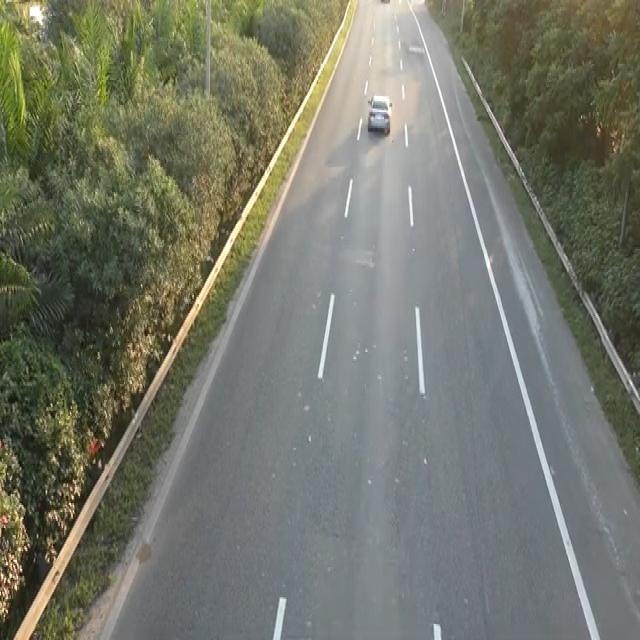bus: (366, 91, 393, 135)
